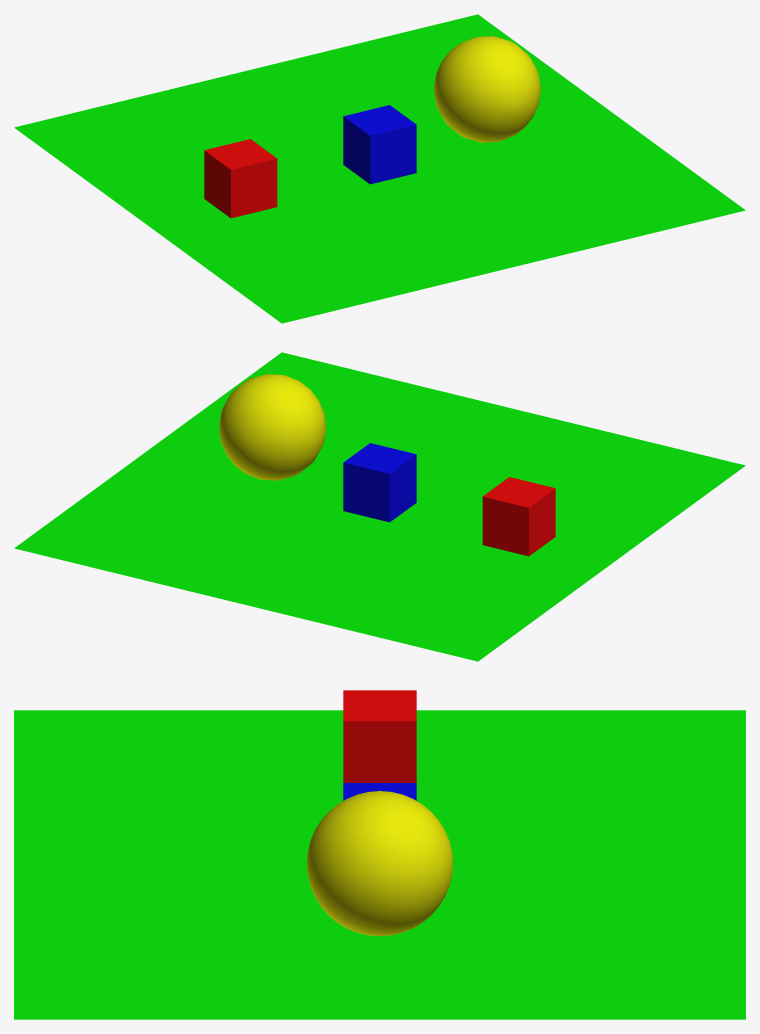
3 renders of one model, top to bottom at view 1: azimuth 30°, elevation 25°; view 2: azimuth 150°, elevation 25°; view 3: azimuth 270°, elevation 25°, orthographic. The views are drawn at different scales.
Parts seen in each view (by area): view 1: pPlane1, pSphere1, pCube1, pasted__pCube1; view 2: pPlane1, pSphere1, pCube1, pasted__pCube1; view 3: pPlane1, pSphere1, pasted__pCube1, pCube1.
Part boxes in pixels (bbox=[...]): pPlane1: bbox=[14, 14, 745, 323]; pSphere1: bbox=[434, 36, 540, 142]; pCube1: bbox=[343, 105, 416, 184]; pasted__pCube1: bbox=[204, 139, 277, 218]; pPlane1: bbox=[14, 352, 745, 661]; pSphere1: bbox=[219, 374, 325, 480]; pCube1: bbox=[343, 443, 416, 522]; pasted__pCube1: bbox=[482, 477, 555, 556]; pPlane1: bbox=[14, 710, 745, 1019]; pSphere1: bbox=[306, 791, 453, 936]; pasted__pCube1: bbox=[343, 690, 416, 782]; pCube1: bbox=[343, 783, 416, 800].
Size of the model in its own units: 1000 by 1000 by 210.
